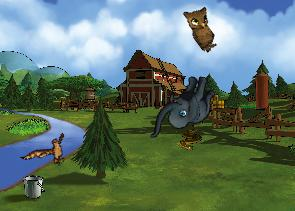eagle: (20, 122, 78, 181)
elephant: (149, 68, 217, 147)
owl: (178, 0, 228, 54)
